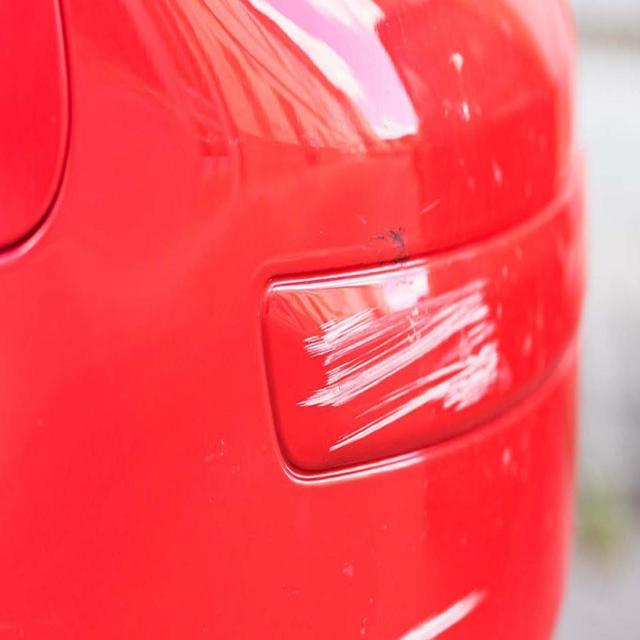scratch: (288, 260, 502, 460)
